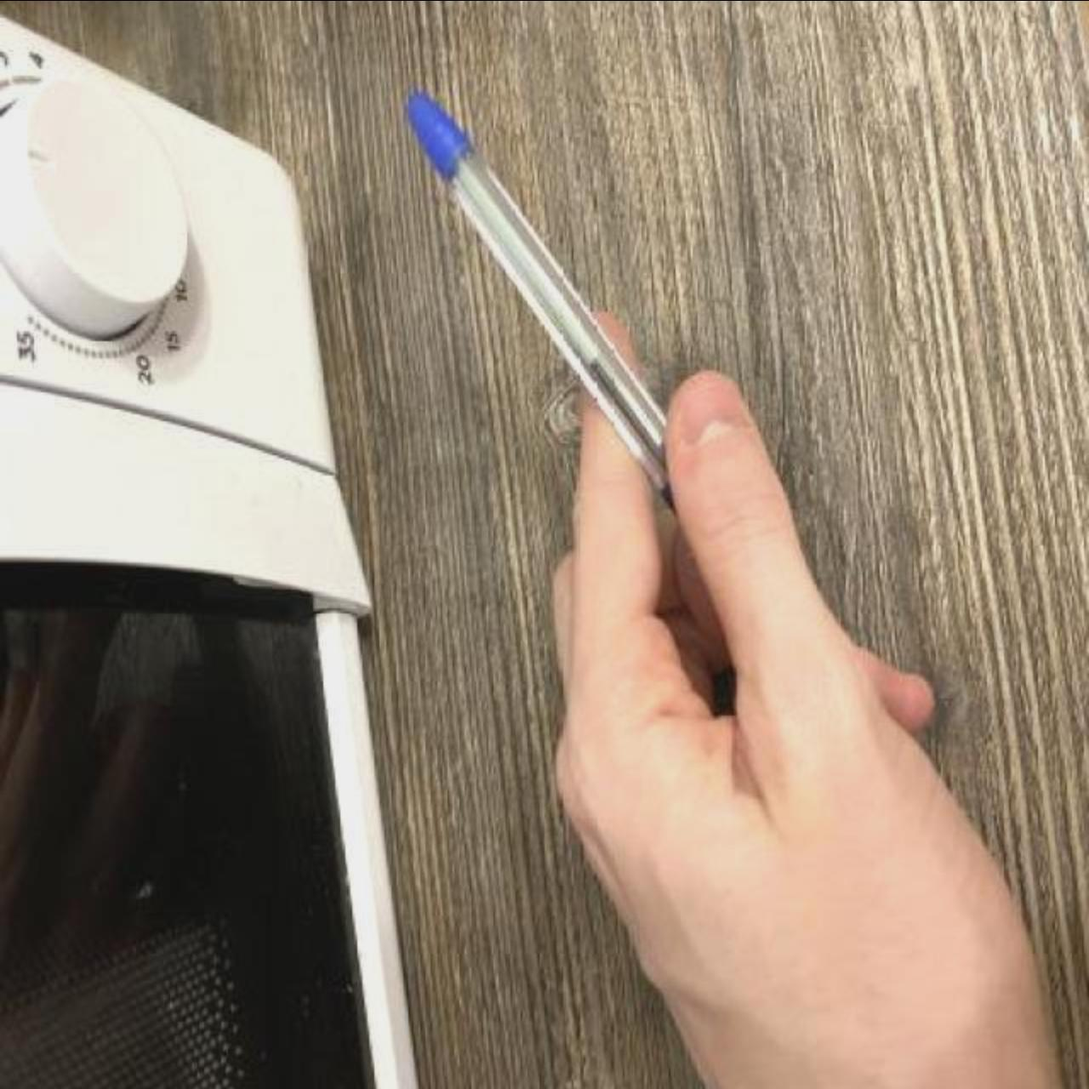pen: (403, 90, 674, 504)
